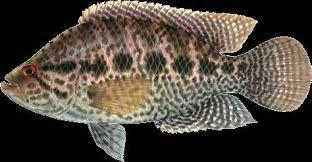Jaguar Gapote: (1, 0, 312, 162)
